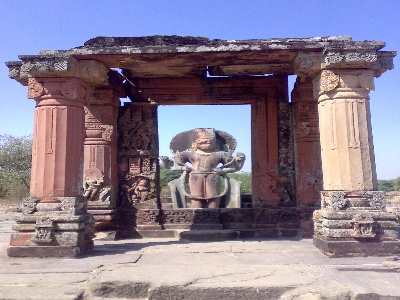mandapa: (14, 33, 381, 231)
